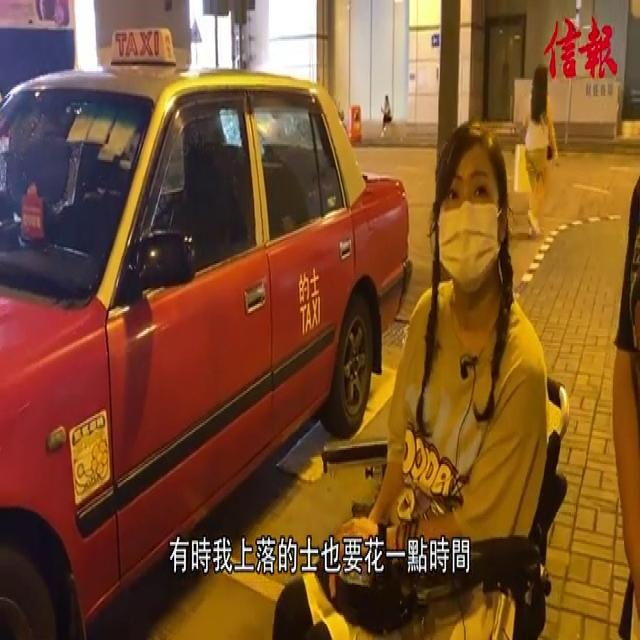wheelchairs: (318, 370, 575, 634)
